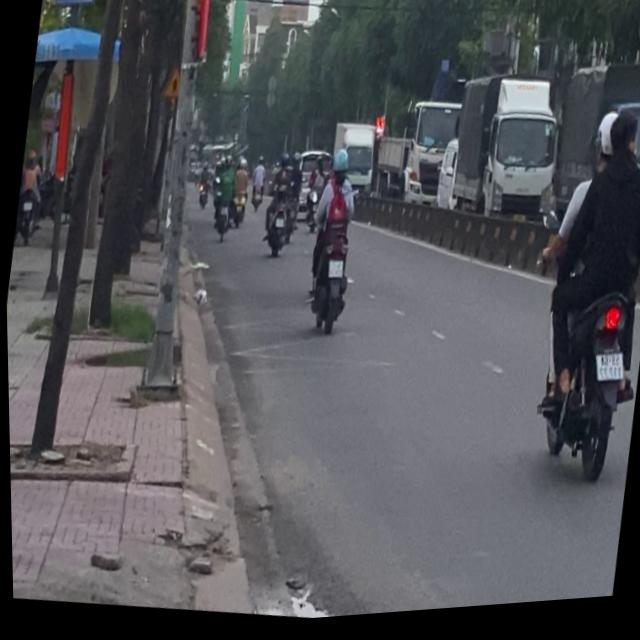helmet: (590, 117, 620, 181), (329, 152, 350, 183)
licenseplate: (514, 103, 640, 499), (294, 145, 370, 339)
motorcyclist: (606, 114, 640, 171)
nohelmet: (591, 357, 624, 392), (326, 263, 342, 284)
